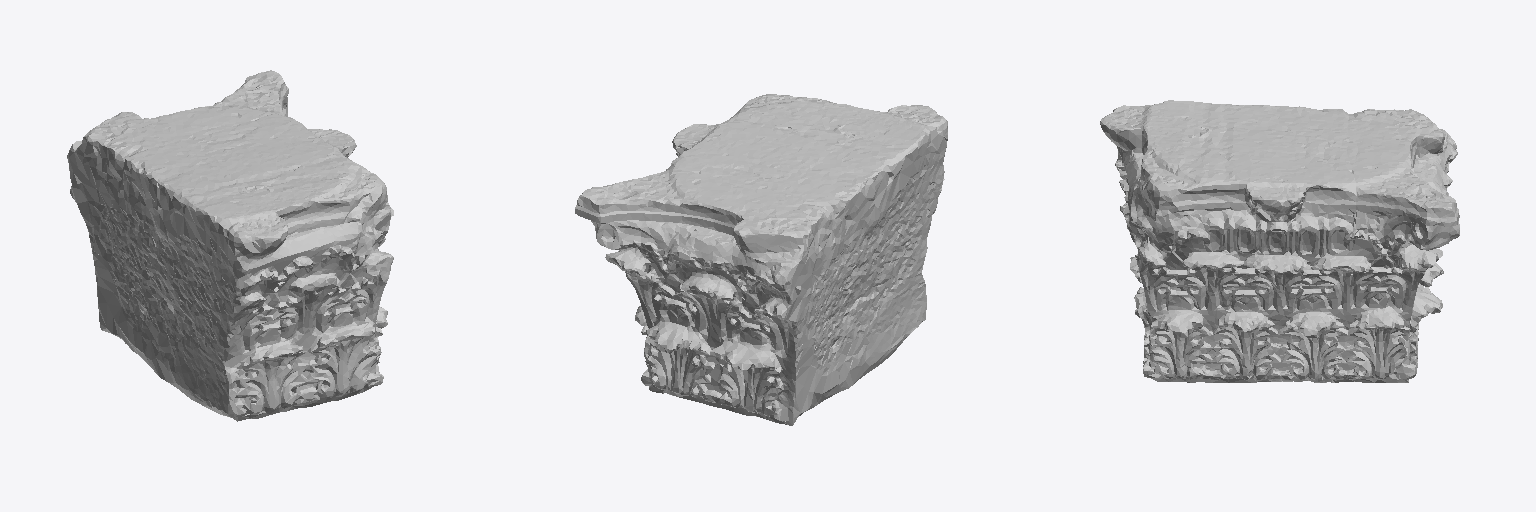
Rendered from pfeilerkapitell_01.obj.
The picture shows the model from 3 angles: view 1: azimuth 30°, elevation 25°; view 2: azimuth 150°, elevation 25°; view 3: azimuth 270°, elevation 25°; orthographic projection.
Visible parts, largest first — view 1: lowpoly_02_textured; view 2: lowpoly_02_textured; view 3: lowpoly_02_textured.
Part boxes in pixels (x1,y1,x2,y2): lowpoly_02_textured: (67,70,393,421); lowpoly_02_textured: (575,94,947,425); lowpoly_02_textured: (1100,100,1459,382).
Size of the model in its own units: 1.03 by 0.9894 by 1.51.